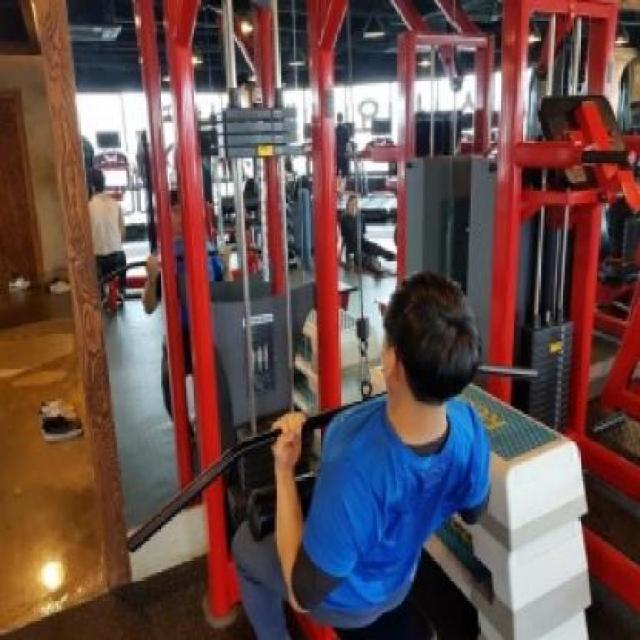Lat Pull Down: (106, 0, 582, 640)
